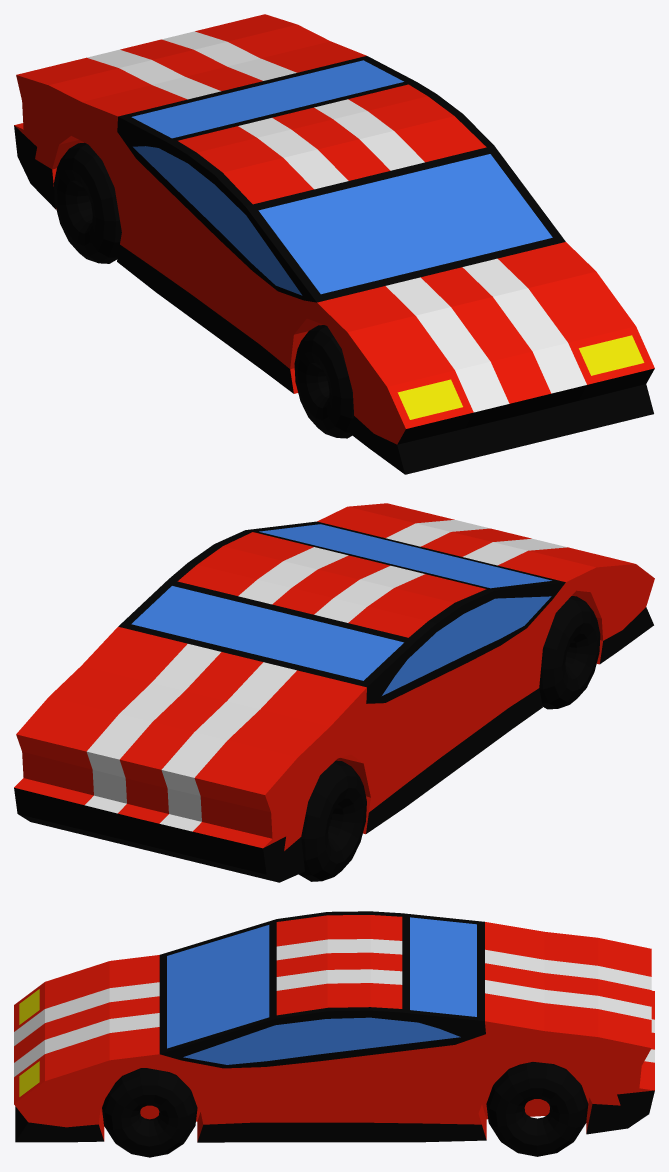
File: CarSporty.fbx
The picture shows the model from 3 angles, top to bottom: view 1: azimuth 30°, elevation 25°; view 2: azimuth 150°, elevation 25°; view 3: azimuth 270°, elevation 25°; orthographic projection. The views are drawn at different scales.
Parts seen in each view (by area): view 1: CarSporty; view 2: CarSporty; view 3: CarSporty.
Part boxes in pixels (x1,y1,x2,y2): CarSporty: (14, 14, 654, 474); CarSporty: (14, 503, 654, 882); CarSporty: (14, 911, 654, 1157).
Bounding box in the file's own units: 158 × 103 × 400.
